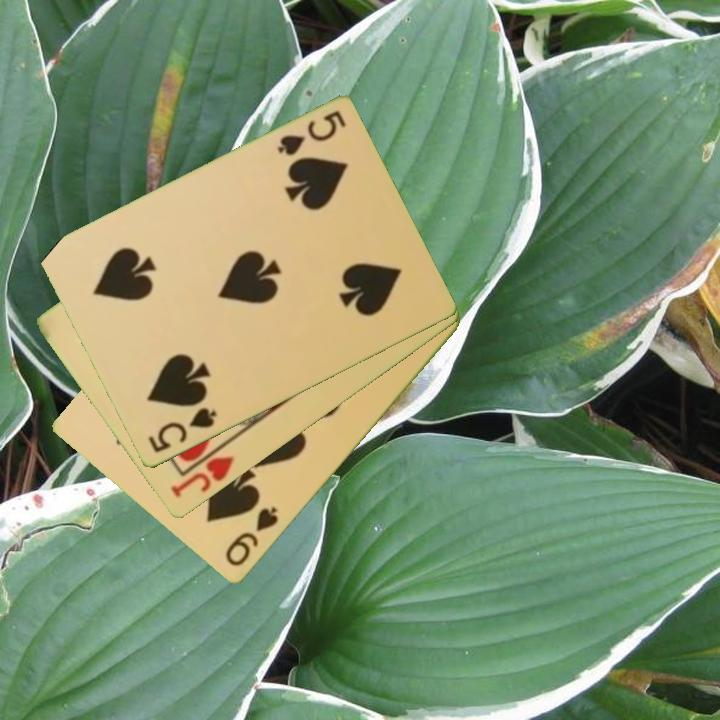5s: (144, 404, 220, 456), (273, 107, 349, 159)
9s: (221, 503, 281, 570)
Jh: (167, 453, 238, 502)
